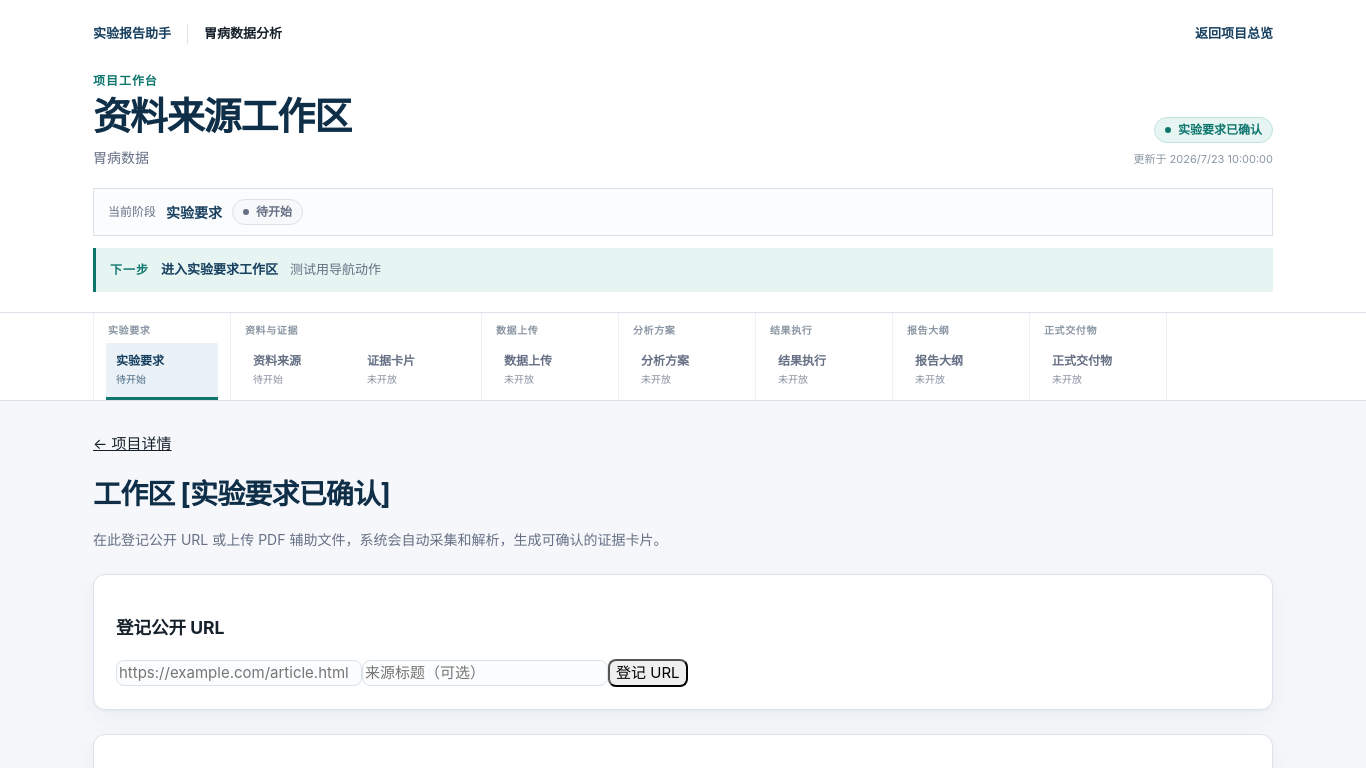
Scenario: SourcesWorkspaceView - URL 登记表单 › 未输入 URL 点击登记显示校验错误
Click the button "登记 URL". click: (648, 673)
box: [608,659,688,687]
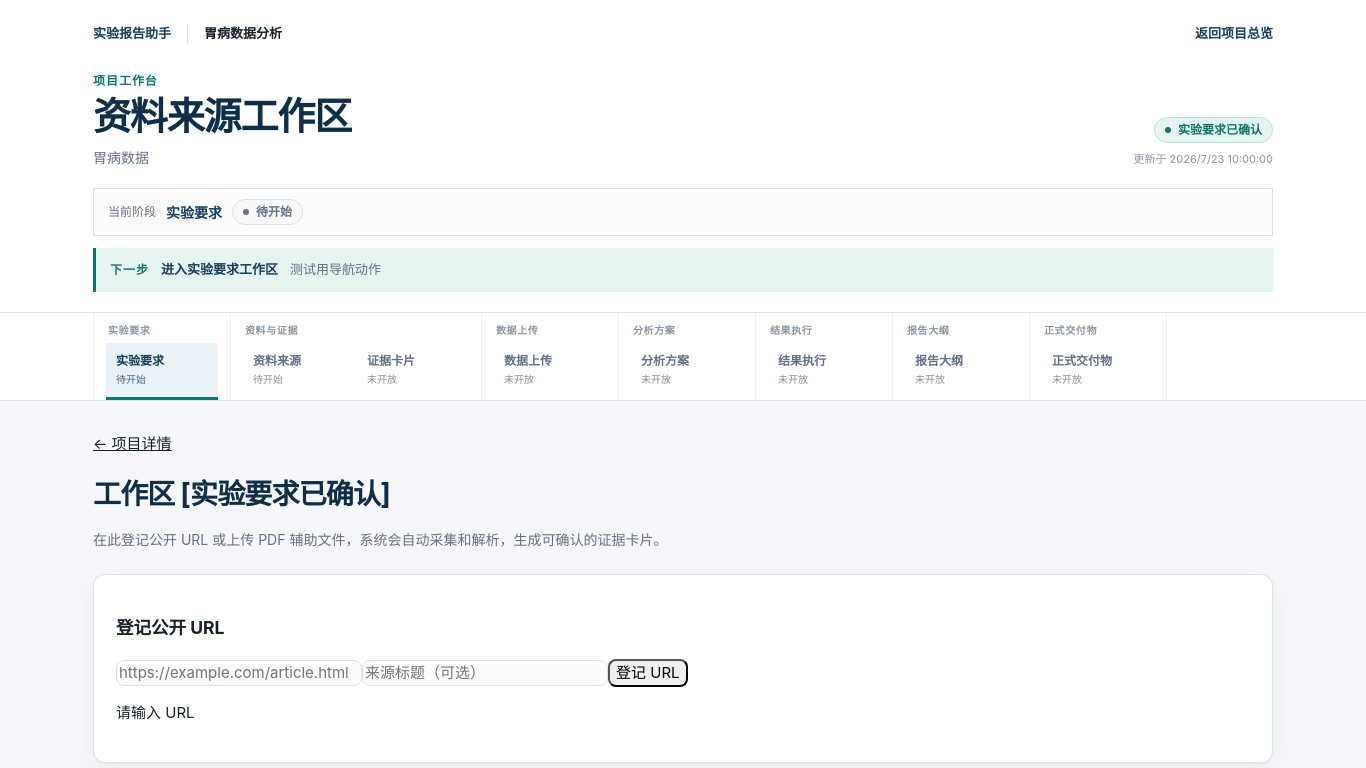
Now the text "请输入 URL" is shown, box [116,703,194,722]
